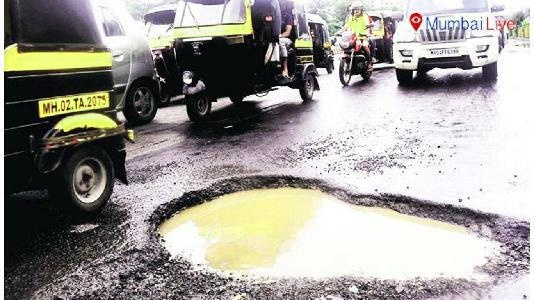pothole: (143, 171, 530, 298)
